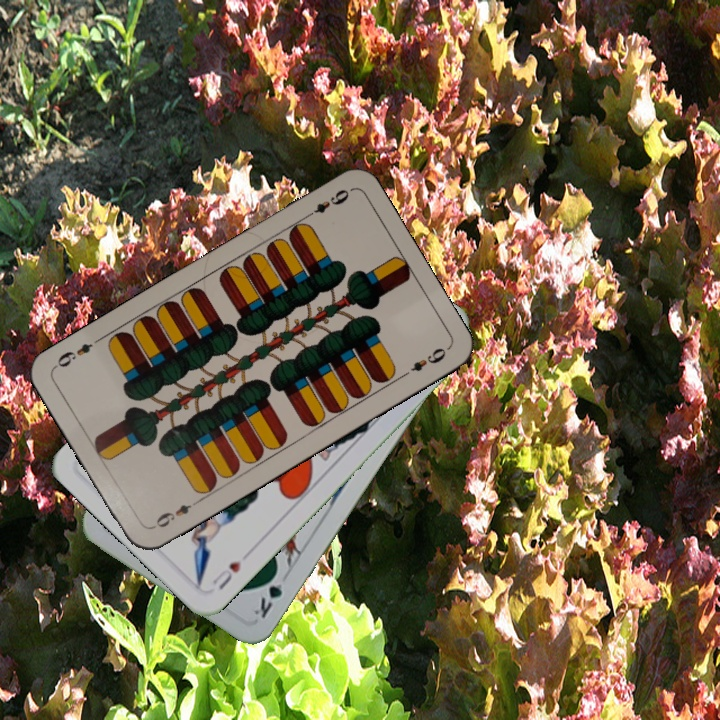E9: (148, 496, 202, 532), (300, 185, 352, 222)
GK: (249, 565, 288, 621)
HU: (208, 556, 244, 593)
